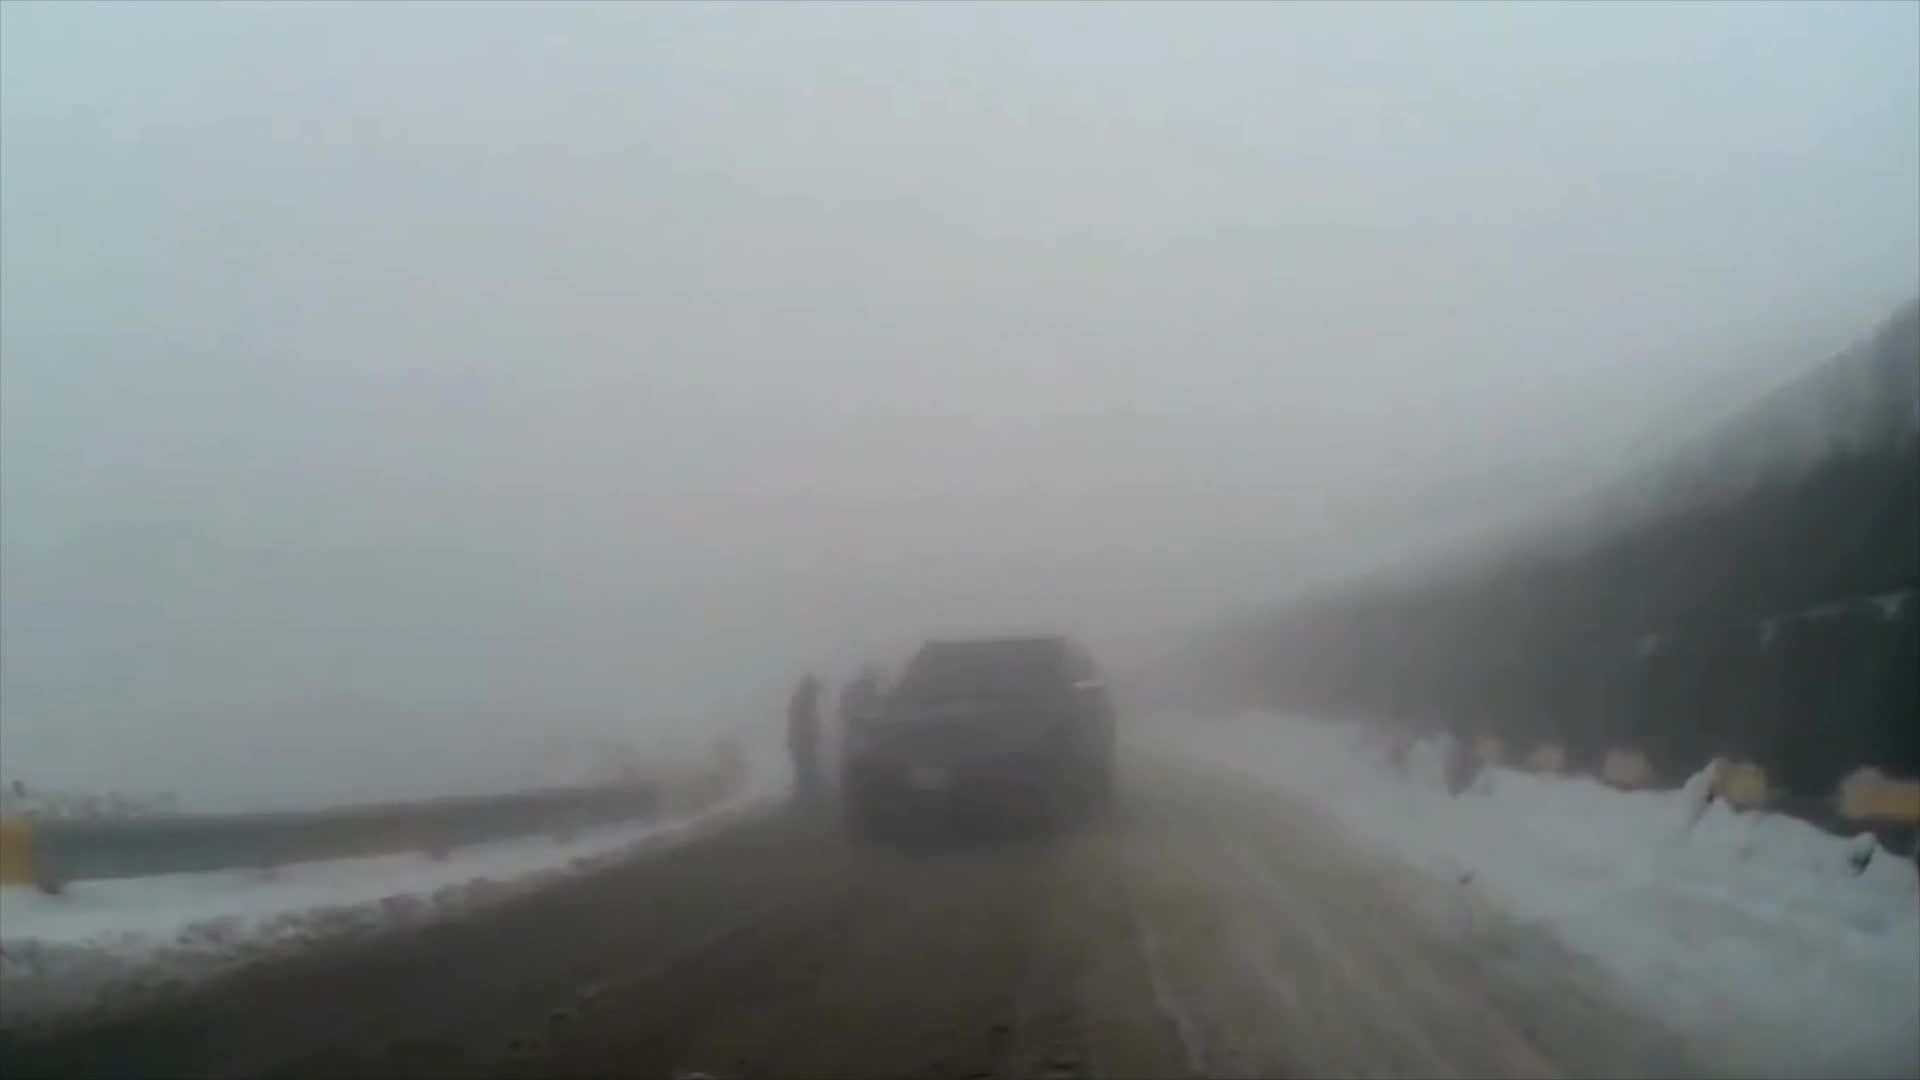pedestrian: (782, 665, 836, 807), (845, 665, 902, 790)
vehicle: (837, 632, 1120, 855)
